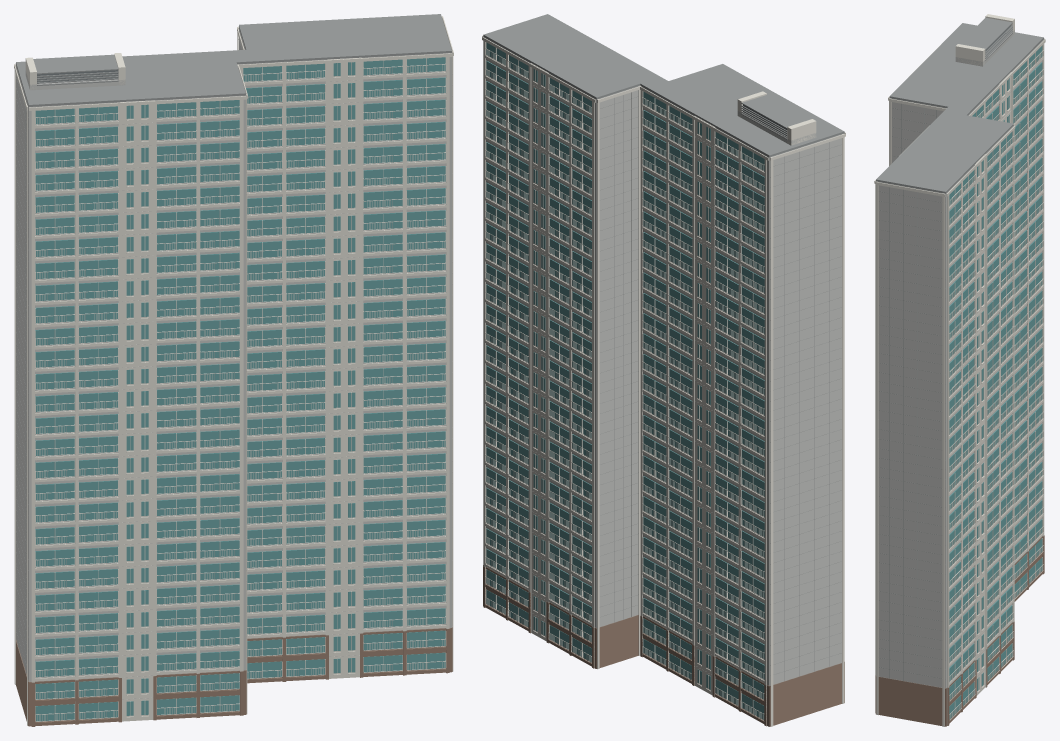
The model's file is bespoke-jamsil-els-145.glb.
3 views of the same model, side by side, from view 1: azimuth 30°, elevation 25°; view 2: azimuth 150°, elevation 25°; view 3: azimuth 270°, elevation 25° (orthographic). The views are drawn at different scales.
Parts seen in each view (by area): view 1: Els145_editable_Els145_turquoise_balcony_glazing, Els145_editable_Els145_light_grey_solid_wall, Els145_white_exact_chunk_3, Els145_white_exact_chunk_2, Els145_white_exact_chunk_4, Els145_white_exact_chunk_5, Els145_editable_Els145_modest_grey_flat_roof_caps, Els145_white_exact_chunk_1, Els145_editable_Els145_muted_ground_wall; view 2: Els145_editable_Els145_turquoise_balcony_glazing, Els145_editable_Els145_light_grey_solid_wall, Els145_white_exact_chunk_0, Els145_white_exact_chunk_1, Els145_editable_Els145_modest_grey_flat_roof_caps, Els145_white_exact_chunk_6, Els145_white_exact_chunk_5, Els145_white_exact_chunk_7, Els145_editable_Els145_muted_ground_wall; view 3: Els145_editable_Els145_light_grey_solid_wall, Els145_editable_Els145_turquoise_balcony_glazing, Els145_editable_Els145_modest_grey_flat_roof_caps, Els145_white_exact_chunk_6, Els145_white_exact_chunk_5, Els145_white_exact_chunk_1, Els145_white_exact_chunk_7, Els145_editable_Els145_muted_ground_wall, Els145_white_exact_chunk_0, Els145_white_exact_chunk_3.
Part boxes in pixels (bbox=[...]): Els145_editable_Els145_turquoise_balcony_glazing: bbox=[35, 57, 445, 721]; Els145_editable_Els145_light_grey_solid_wall: bbox=[16, 28, 451, 699]; Els145_white_exact_chunk_3: bbox=[29, 57, 361, 713]; Els145_white_exact_chunk_2: bbox=[31, 102, 196, 723]; Els145_white_exact_chunk_4: bbox=[239, 60, 402, 676]; Els145_white_exact_chunk_5: bbox=[239, 16, 453, 671]; Els145_editable_Els145_modest_grey_flat_roof_caps: bbox=[16, 14, 452, 681]; Els145_white_exact_chunk_1: bbox=[14, 63, 154, 725]; Els145_editable_Els145_muted_ground_wall: bbox=[16, 627, 452, 726]; Els145_editable_Els145_turquoise_balcony_glazing: bbox=[486, 42, 764, 719]; Els145_editable_Els145_light_grey_solid_wall: bbox=[483, 36, 844, 685]; Els145_white_exact_chunk_0: bbox=[640, 87, 738, 706]; Els145_white_exact_chunk_1: bbox=[639, 86, 845, 726]; Els145_editable_Els145_modest_grey_flat_roof_caps: bbox=[483, 14, 844, 683]; Els145_white_exact_chunk_6: bbox=[483, 37, 591, 662]; Els145_white_exact_chunk_5: bbox=[482, 35, 548, 641]; Els145_white_exact_chunk_7: bbox=[482, 37, 816, 669]; Els145_editable_Els145_muted_ground_wall: bbox=[483, 565, 844, 726]; Els145_editable_Els145_light_grey_solid_wall: bbox=[876, 30, 1043, 688]; Els145_editable_Els145_turquoise_balcony_glazing: bbox=[949, 46, 1042, 719]; Els145_editable_Els145_modest_grey_flat_roof_caps: bbox=[876, 17, 1043, 687]; Els145_white_exact_chunk_6: bbox=[947, 144, 1013, 725]; Els145_white_exact_chunk_5: bbox=[874, 125, 985, 726]; Els145_white_exact_chunk_1: bbox=[969, 38, 1045, 589]; Els145_white_exact_chunk_7: bbox=[946, 14, 1015, 687]; Els145_editable_Els145_muted_ground_wall: bbox=[875, 535, 1044, 726]; Els145_white_exact_chunk_0: bbox=[969, 72, 1027, 599]; Els145_white_exact_chunk_3: bbox=[888, 45, 946, 165].
Bounding box in the file's own units: 52.71 × 79.4 × 22.37.
